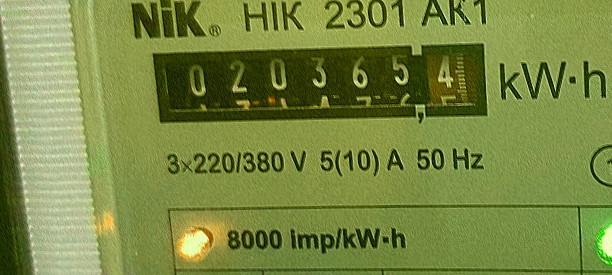0: (185, 62, 206, 97), (267, 56, 287, 92)
2: (225, 58, 247, 94)
3: (308, 53, 327, 88)
4: (434, 53, 453, 88)
5: (388, 53, 409, 85)
6: (348, 54, 368, 89)
screen: (134, 28, 504, 136)
